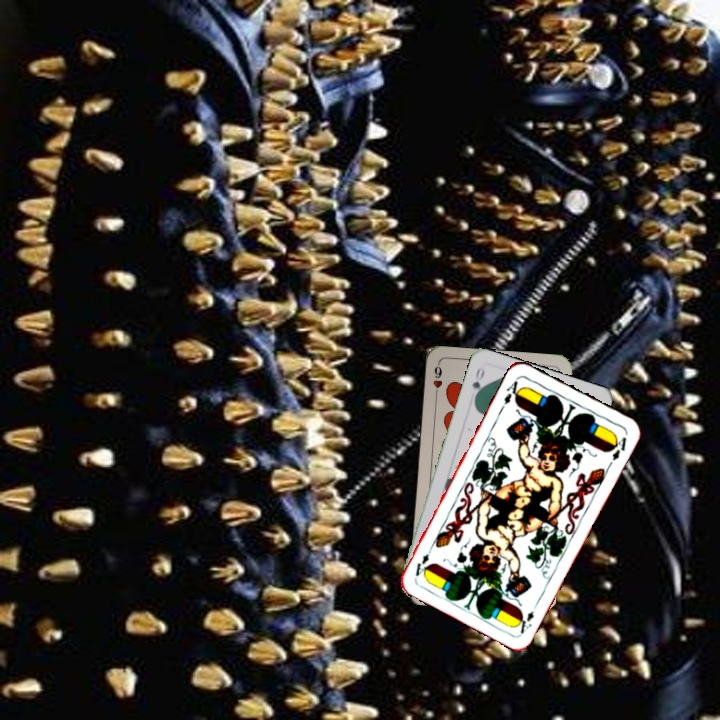EA: (512, 598, 541, 636), (499, 374, 525, 407)
GO: (468, 364, 487, 403)
H9: (429, 360, 445, 401)
